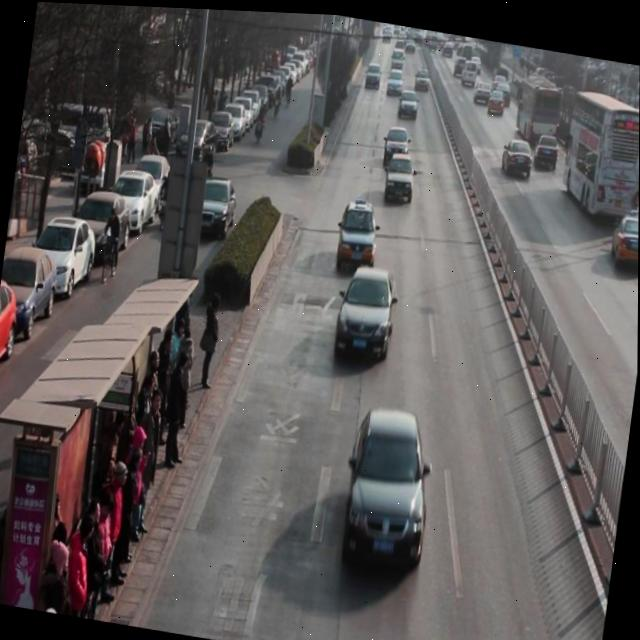car: (339, 401, 439, 571), (335, 259, 400, 356), (336, 195, 381, 271), (382, 147, 417, 203), (610, 205, 639, 267), (500, 131, 535, 175), (382, 120, 412, 167), (534, 126, 561, 167), (396, 84, 421, 117), (486, 85, 507, 111)
van: (559, 83, 640, 220), (511, 67, 563, 142)
